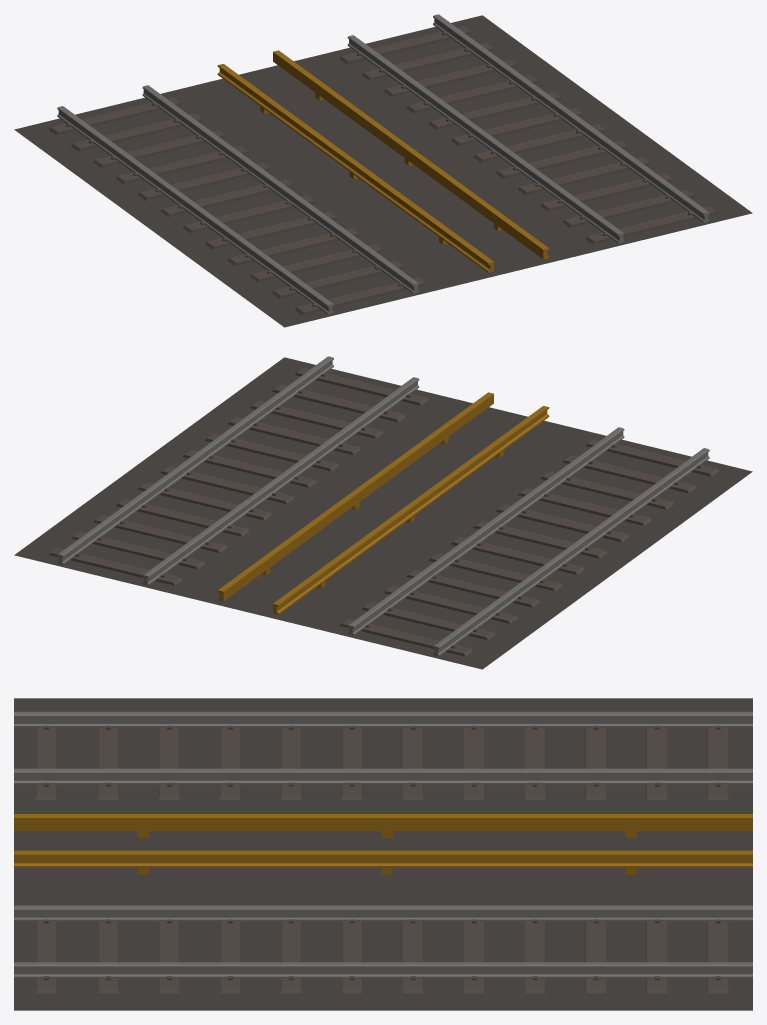
File: SM_Train_Track_Onground_03.fbx
3 views of the same model, one above another, from view 1: azimuth 30°, elevation 25°; view 2: azimuth 150°, elevation 25°; view 3: azimuth 270°, elevation 25° (orthographic). The views are drawn at different scales.
Visible parts, largest first — view 1: SM_Train_Track_Onground_03; view 2: SM_Train_Track_Onground_03; view 3: SM_Train_Track_Onground_03.
Boxes of the visible parts, x1,y1,x2,y2 form: SM_Train_Track_Onground_03: (14, 14, 752, 327); SM_Train_Track_Onground_03: (14, 356, 752, 669); SM_Train_Track_Onground_03: (14, 698, 752, 1010).
Size of the model in its own units: 1000 by 30 by 1000.
